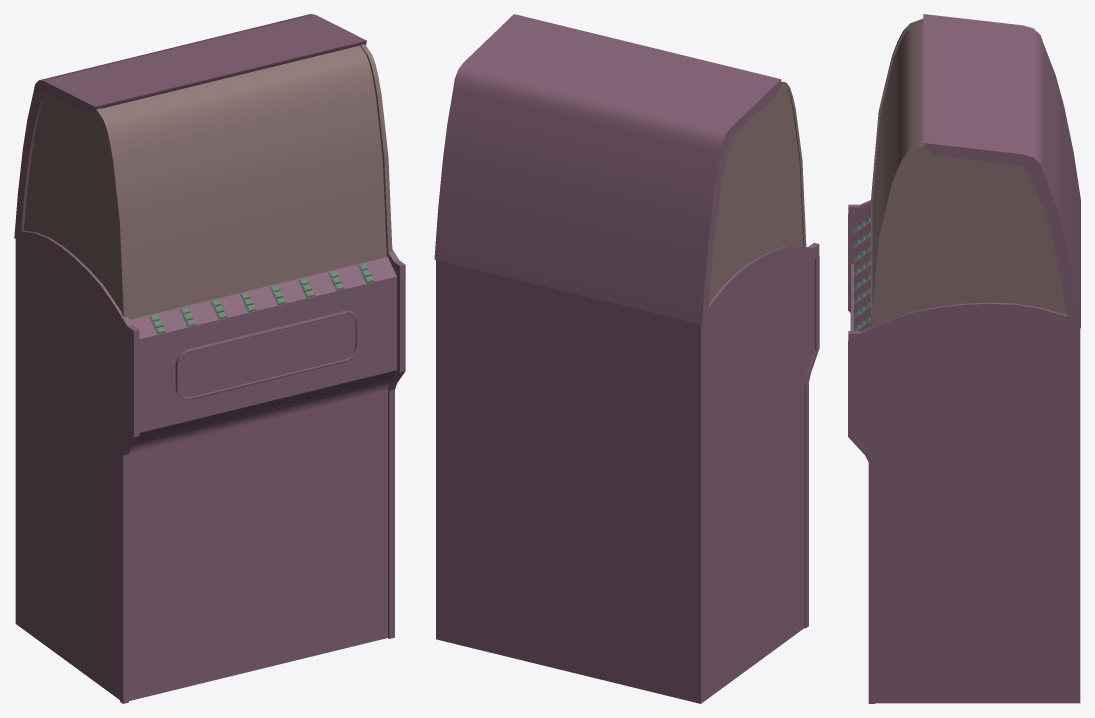
File: Rockola.fbx
The picture shows the model from 3 angles, left to right: view 1: azimuth 30°, elevation 25°; view 2: azimuth 150°, elevation 25°; view 3: azimuth 270°, elevation 25°; orthographic projection. The views are drawn at different scales.
Visible parts, largest first — view 1: pCube53, pCube51, pCylinder18; view 2: pCube53, pCube51; view 3: pCube53, pCube51, pCylinder18.
Part boxes in pixels (box(x1,y1,x2,y2)): pCube53: box(14, 14, 405, 703); pCube51: box(23, 44, 392, 319); pCylinder18: box(149, 263, 374, 334); pCube53: box(434, 14, 819, 703); pCube51: box(709, 81, 806, 302); pCube53: box(848, 14, 1080, 703); pCube51: box(870, 18, 1066, 327); pCylinder18: box(854, 217, 870, 330).
Size of the model in its own units: 1.49 by 3.03 by 1.14.
